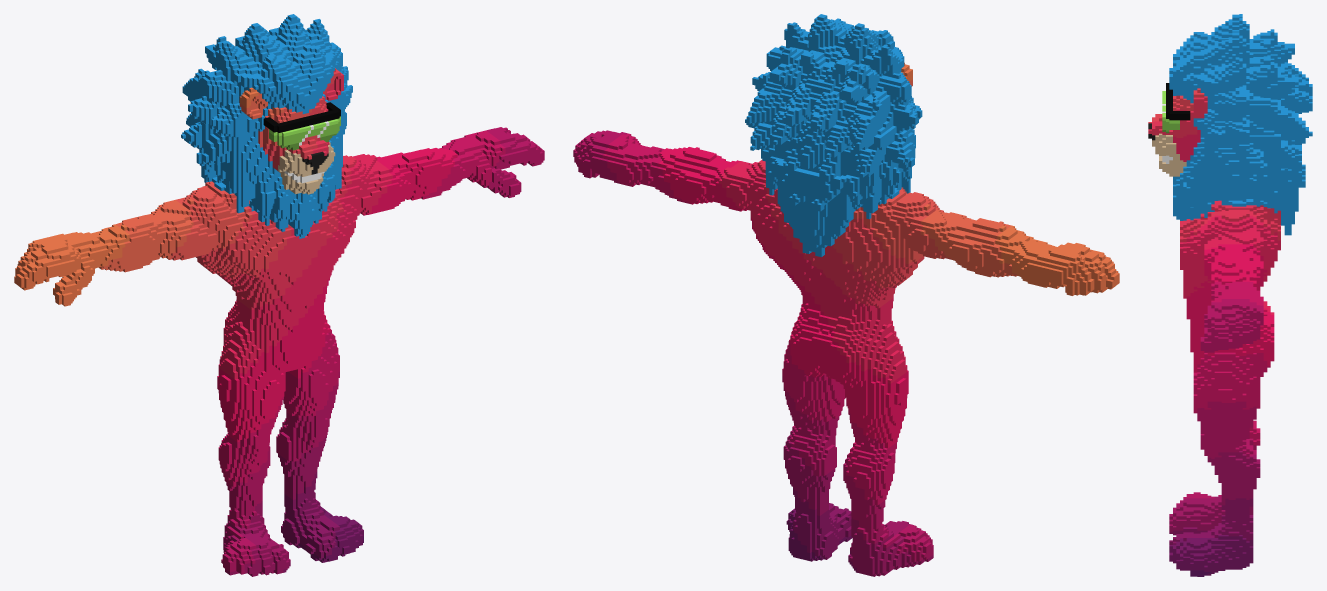
The model's file is 642-D3IKGwch.glb.
3 views of the same model, side by side, from view 1: azimuth 30°, elevation 25°; view 2: azimuth 150°, elevation 25°; view 3: azimuth 270°, elevation 25° (orthographic). The views are drawn at different scales.
Parts seen in each view (by area): view 1: big_smile; view 2: big_smile; view 3: big_smile.
Boxes of the visible parts, bbox=[...] form: big_smile: bbox=[14, 14, 544, 576]; big_smile: bbox=[573, 14, 1119, 576]; big_smile: bbox=[1148, 14, 1312, 576].
Bounding box in the file's own units: 17.2 × 16.5 × 4.7.
Materials: 4 (4 with a texture image).
